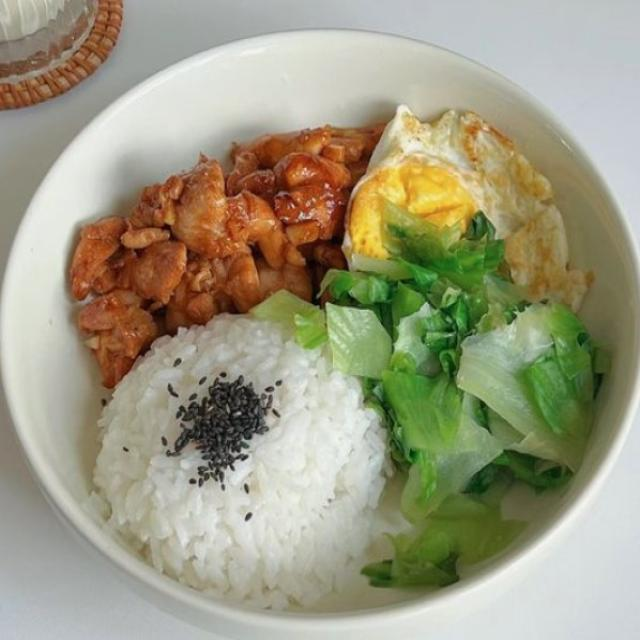Carbohydrate: (94, 311, 391, 606)
Kaow-Yum: (47, 25, 640, 640)
Protein: (73, 120, 587, 377)
Vegetable: (258, 214, 605, 590)
